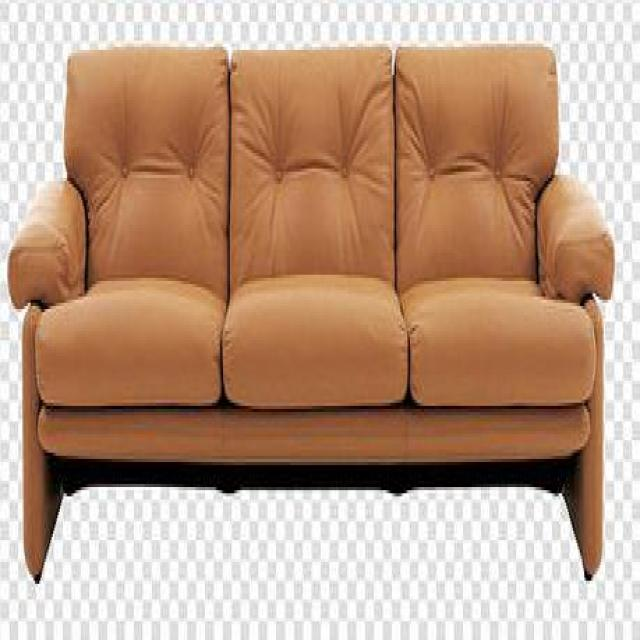sofa: (8, 45, 616, 581)
